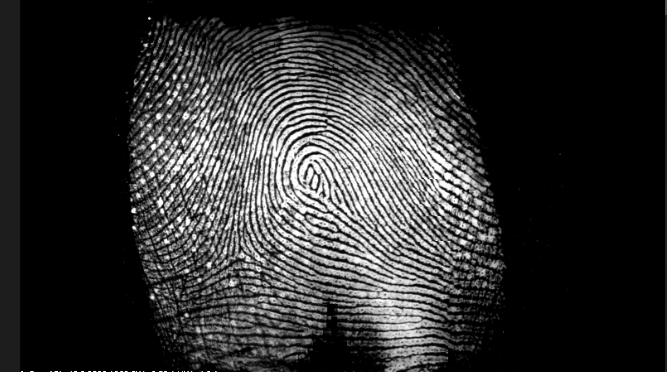nucelo: (292, 161, 330, 199)
verticilo: (433, 251, 469, 280), (221, 240, 258, 267)
